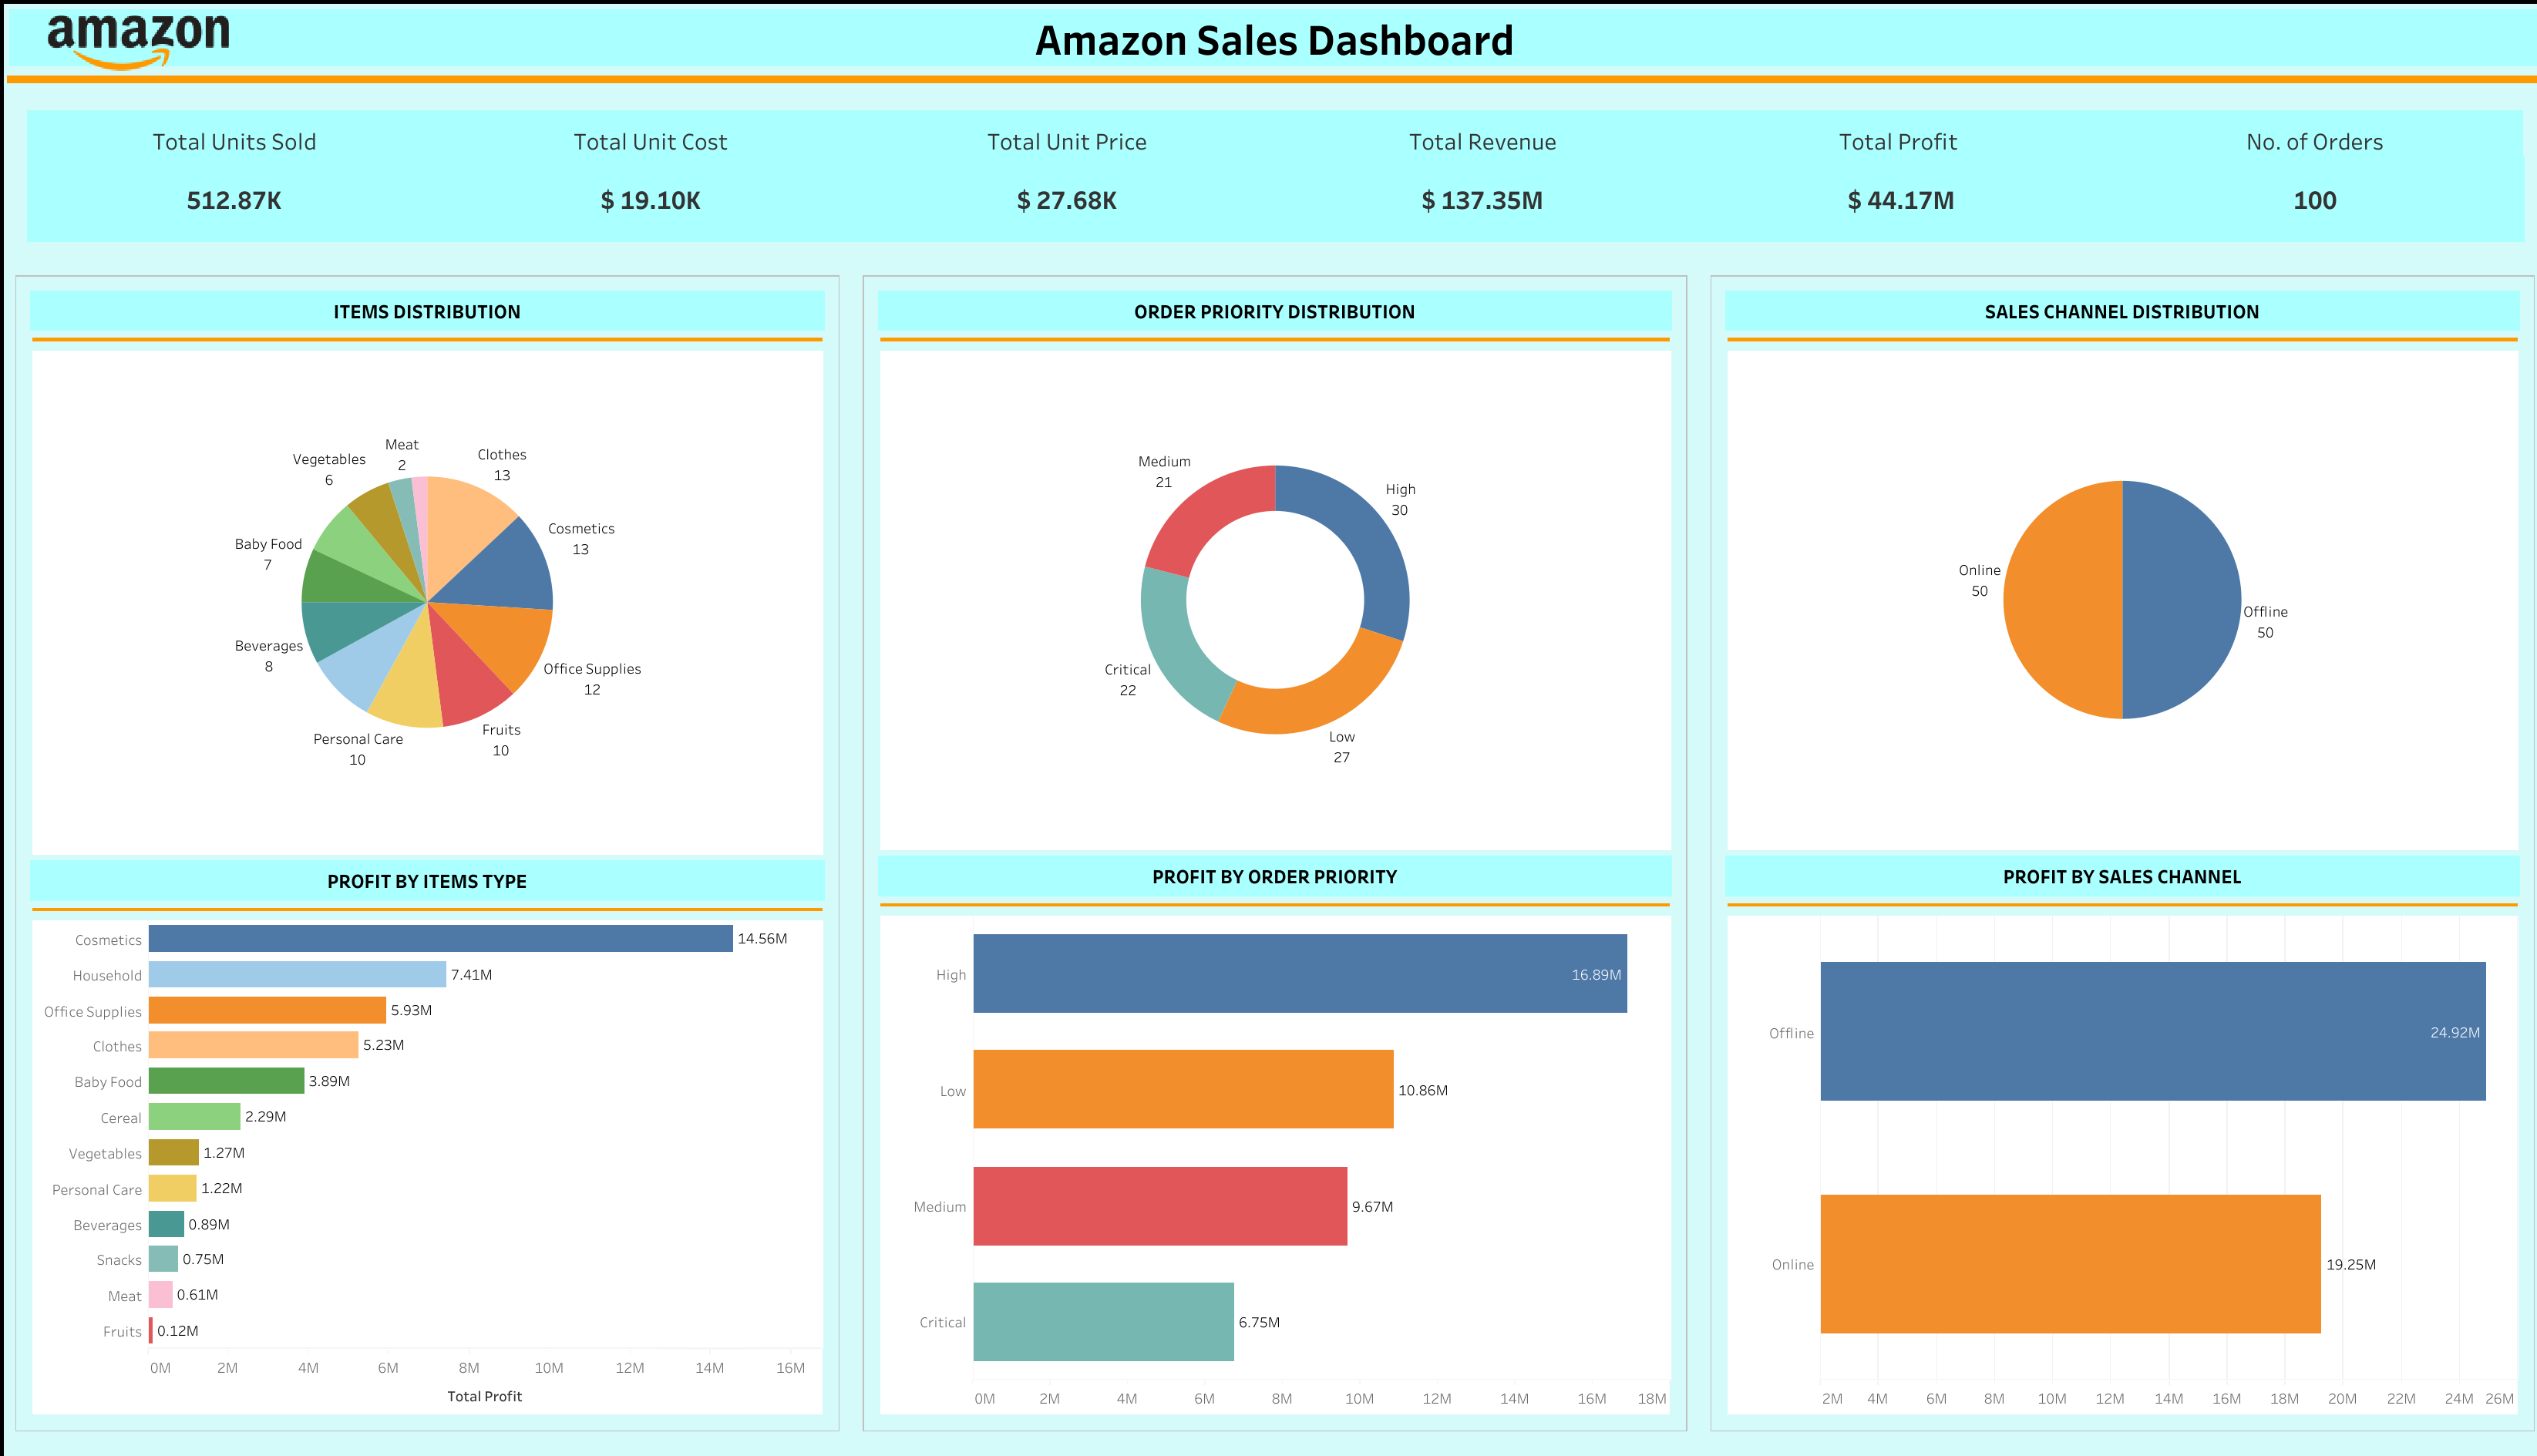

The dashboard page shown, as its layout file describes it:
{"tool":"tableau","page":{"name":"Dashboard-1","canvas":[1000,1000],"units":"permille","ordinal":0},"visuals":[{"type":"text","box":[1.6,2.5,1001.4,58.3]},{"type":"image","param":"Image/amazon_PNG24.png","box":[0.5,7.5,102.1,45.8]},{"type":"blank","box":[1.6,60.8,1001.4,10.8]},{"type":"worksheet","title":"KPIs","mark":"Automatic","box":[1.6,71.7,1001.4,127.5]},{"type":"text","box":[12.5,216.7,312,32.5]},{"type":"text","box":[346.4,216.7,312,32.5]},{"type":"text","box":[680.2,216.7,312,32.5]},{"type":"blank","box":[12.5,249.2,312,9.2]},{"type":"blank","box":[346.4,249.2,312,9.2]},{"type":"blank","box":[680.2,249.2,312,9.2]},{"type":"worksheet","title":"Items Distribution","mark":"Pie","box":[12.5,258.3,312,354.2]},{"type":"worksheet","title":"Order Priority Distribution","mark":"Pie","cols":["Calculation_1201616696511655937","Calculation_1201616696511680515"],"box":[346.4,258.3,312,354.2]},{"type":"worksheet","title":"Sales Channel Distribution","mark":"Pie","box":[680.2,258.3,312,354.2]},{"type":"text","box":[12.5,612.5,312,32.5]},{"type":"text","box":[346.4,612.5,312,32.5]},{"type":"text","box":[680.2,612.5,312,32.5]},{"type":"blank","box":[12.5,645,312,9.2]},{"type":"blank","box":[346.4,645,312,9.2]},{"type":"blank","box":[680.2,645,312,9.2]}]}

Visuals, with their boxes on the dashboard's canvas, which has no fixed pixel size, in thousandths of its width and height (x1, y1, x2, y2). These are canvas units, not pixel positions in the 2537x1456 screenshot, which may show the page scaled, cropped or inside an application window:
text: Rect(2, 2, 1003, 61)
image: Rect(0, 8, 103, 53)
blank: Rect(2, 61, 1003, 72)
"KPIs" worksheet: Rect(2, 72, 1003, 199)
text: Rect(12, 217, 324, 249)
text: Rect(346, 217, 658, 249)
text: Rect(680, 217, 992, 249)
blank: Rect(12, 249, 324, 258)
blank: Rect(346, 249, 658, 258)
blank: Rect(680, 249, 992, 258)
"Items Distribution" worksheet (Pie marks): Rect(12, 258, 324, 612)
"Order Priority Distribution" worksheet (Pie marks): Rect(346, 258, 658, 612)
"Sales Channel Distribution" worksheet (Pie marks): Rect(680, 258, 992, 612)
text: Rect(12, 612, 324, 645)
text: Rect(346, 612, 658, 645)
text: Rect(680, 612, 992, 645)
blank: Rect(12, 645, 324, 654)
blank: Rect(346, 645, 658, 654)
blank: Rect(680, 645, 992, 654)
